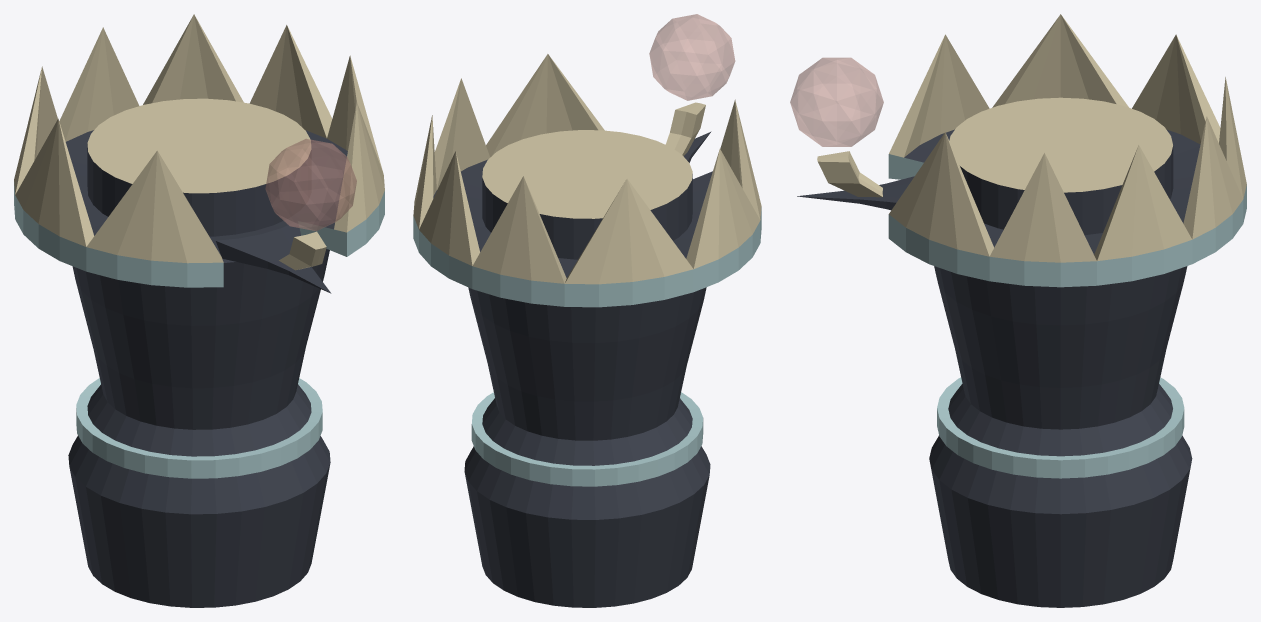
Rendered from NormalTowerModel01.fbx.
3 views of the same model, side by side, from view 1: azimuth 30°, elevation 25°; view 2: azimuth 150°, elevation 25°; view 3: azimuth 270°, elevation 25° (orthographic). The views are drawn at different scales.
Parts seen in each view (by area): view 1: Cylinder, Cylinder.001; view 2: Cylinder, Cylinder.001; view 3: Cylinder, Cylinder.001.
Part boxes in pixels (box(x1,y1,x2,y2)): Cylinder: box(68, 98, 330, 607); Cylinder.001: box(14, 14, 384, 293); Cylinder: box(464, 130, 710, 607); Cylinder.001: box(413, 14, 761, 307); Cylinder: box(929, 97, 1192, 607); Cylinder.001: box(790, 14, 1246, 287).
Bounding box in the file's own units: 662 × 982 × 813.
